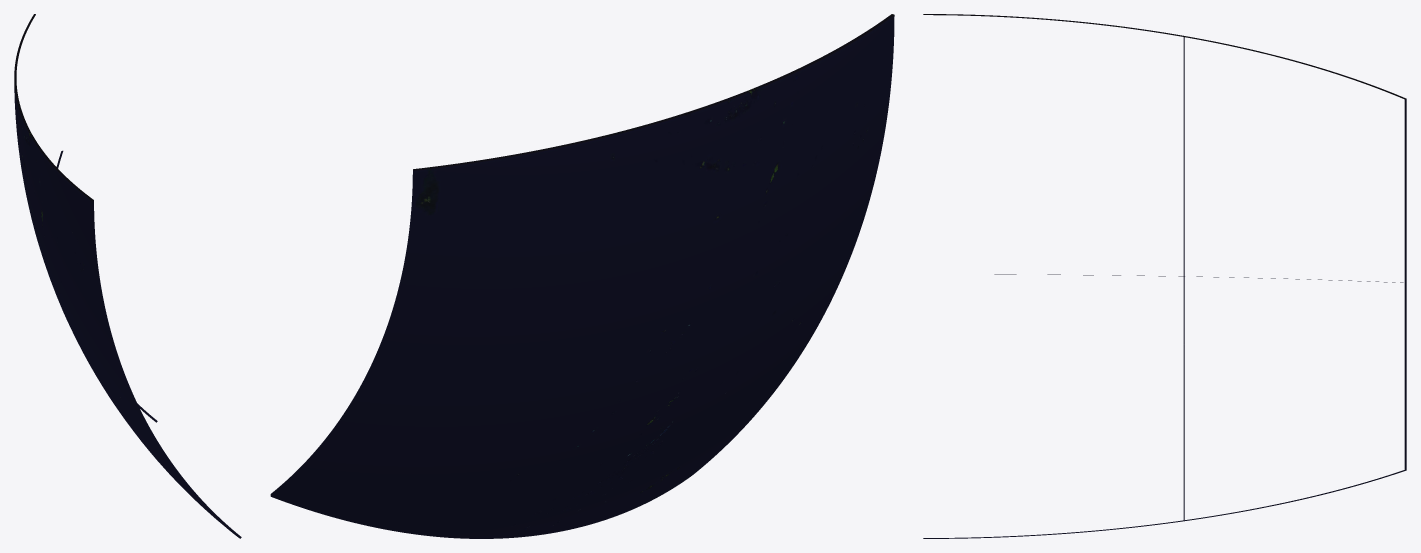
The picture shows the model from 3 angles, left to right: view 1: azimuth 30°, elevation 25°; view 2: azimuth 150°, elevation 25°; view 3: azimuth 270°, elevation 25°; orthographic projection. The views are drawn at different scales.
Parts seen in each view (by area): view 1: DefaultName.012, DefaultName.009, DefaultName.003; view 2: DefaultName.003, DefaultName.012, DefaultName.006, DefaultName.009; view 3: DefaultName.006, DefaultName.003, DefaultName.009, DefaultName.012.
Part boxes in pixels (x1=…): DefaultName.012: x1=19, y1=109, x2=132, y2=393; DefaultName.009: x1=66, y1=319, x2=241, y2=538; DefaultName.003: x1=14, y1=14, x2=35, y2=212; DefaultName.003: x1=376, y1=111, x2=690, y2=366; DefaultName.012: x1=642, y1=14, x2=894, y2=355; DefaultName.006: x1=270, y1=355, x2=642, y2=538; DefaultName.009: x1=505, y1=278, x2=841, y2=538; DefaultName.006: x1=1184, y1=276, x2=1406, y2=520; DefaultName.003: x1=1184, y1=36, x2=1406, y2=282; DefaultName.009: x1=923, y1=274, x2=1184, y2=538; DefaultName.012: x1=923, y1=14, x2=1184, y2=276.
Bounding box in the file's own units: 31962 × 45100 × 44873.
4 materials, 4 textured.
